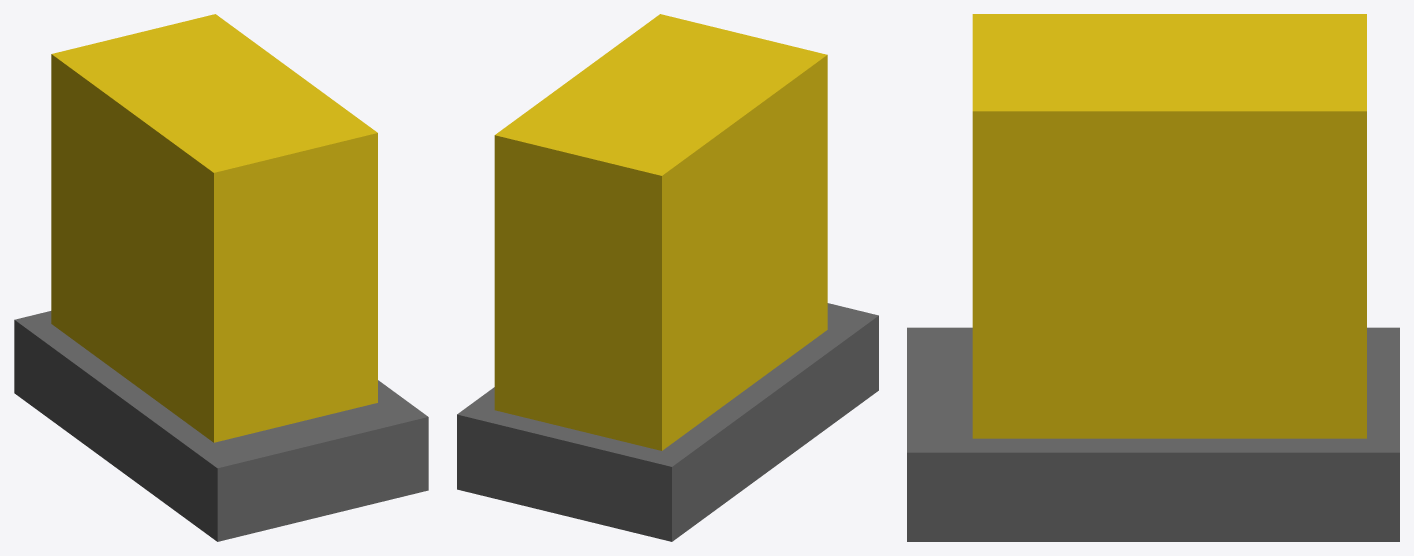
File: boxer leg.obj
3 renders of one model, left to right at view 1: azimuth 30°, elevation 25°; view 2: azimuth 150°, elevation 25°; view 3: azimuth 270°, elevation 25°, orthographic. The views are drawn at different scales.
Size of the model in its own units: 9 by 14 by 15.
Materials: 1 (1 with a texture image).
